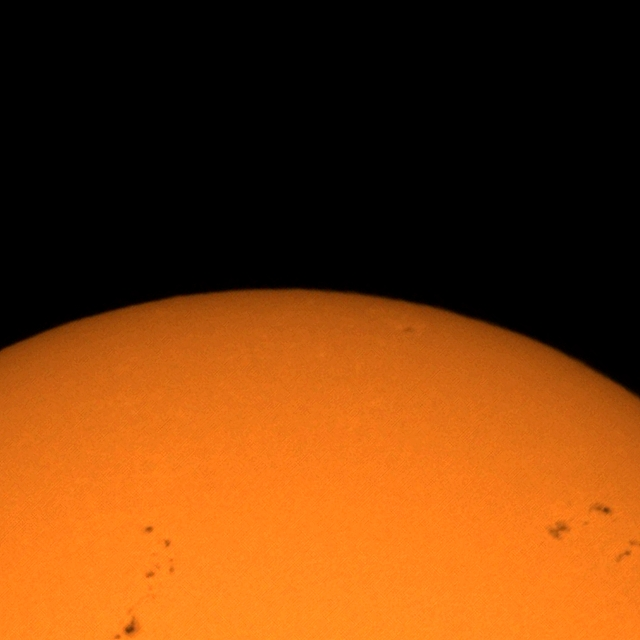sunspot: (114, 612, 142, 640), (142, 524, 171, 551), (548, 517, 572, 542), (144, 558, 171, 580), (616, 538, 640, 562), (143, 524, 155, 534), (163, 539, 171, 549)
